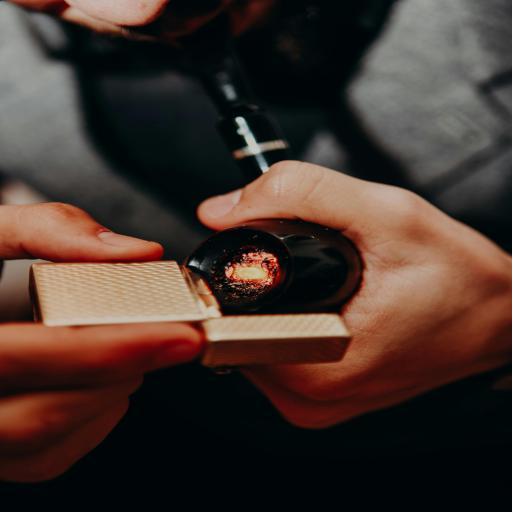lighter: (36, 234, 361, 371)
